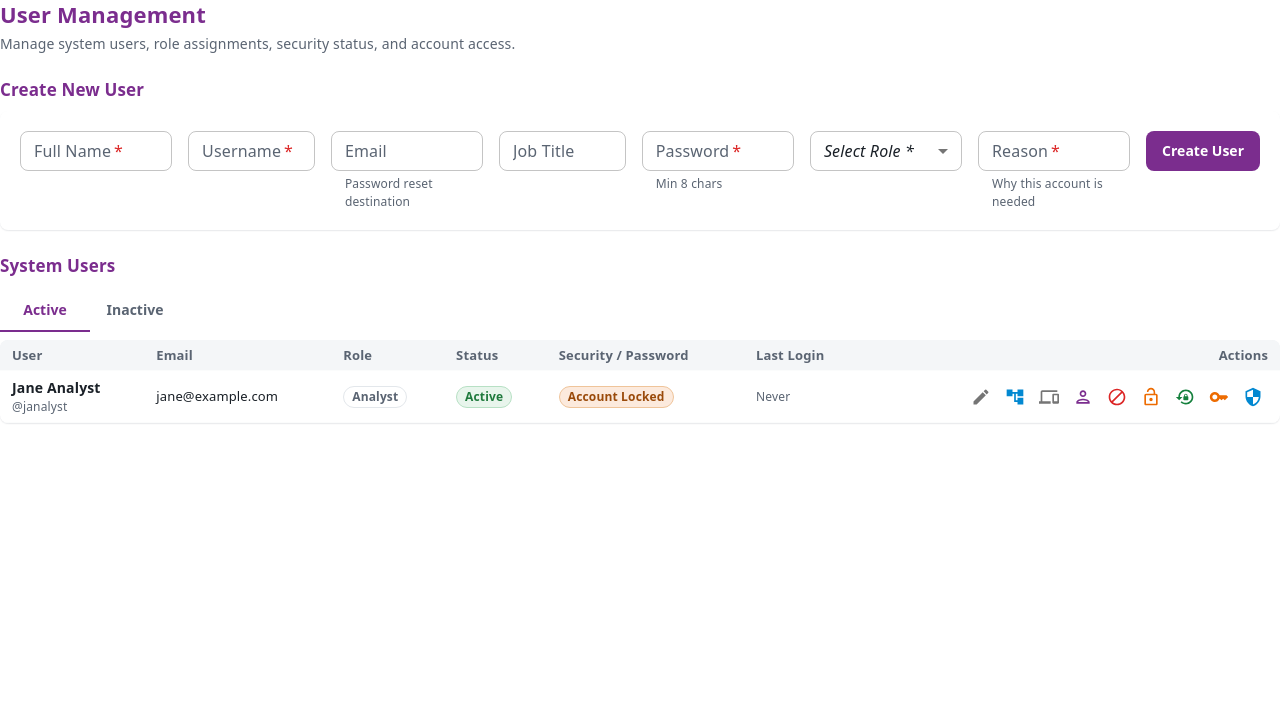
UsersPage reasons and signatures › keeps the signature dialog open with the server's message when the password is refused
Click the button named "Change Role".
click(1083, 397)  # box [1068,382,1098,412]
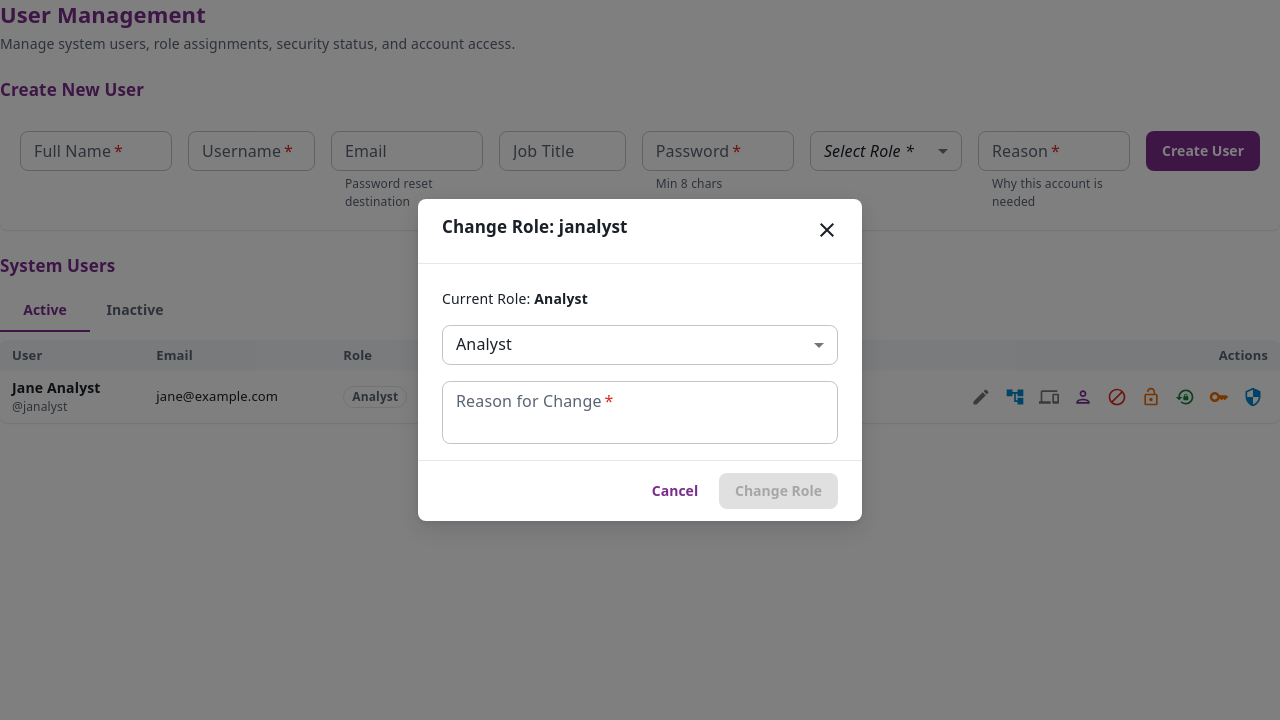
Type "Promotion" into the text box labelled "Reason for Change *".
click(640, 412); type("Promotion")  # box [456,389,824,435]
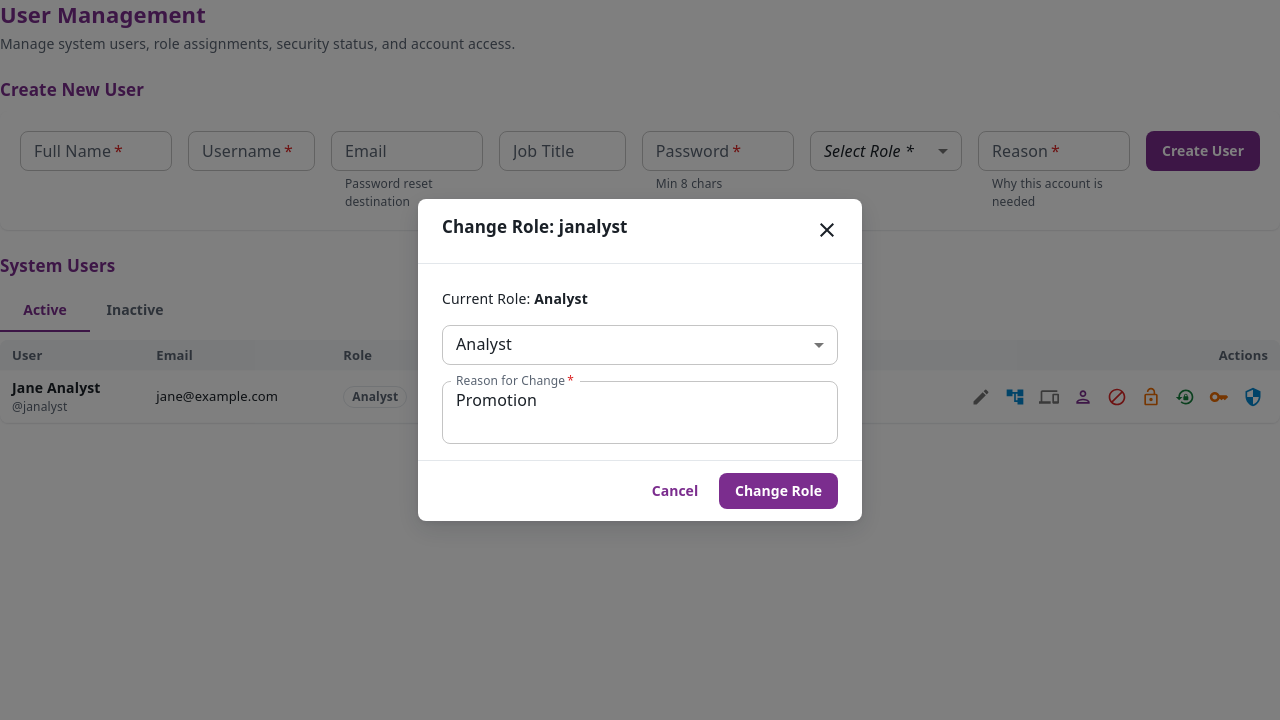
Click the button "Change Role".
click(778, 491)  # box [719,473,838,509]
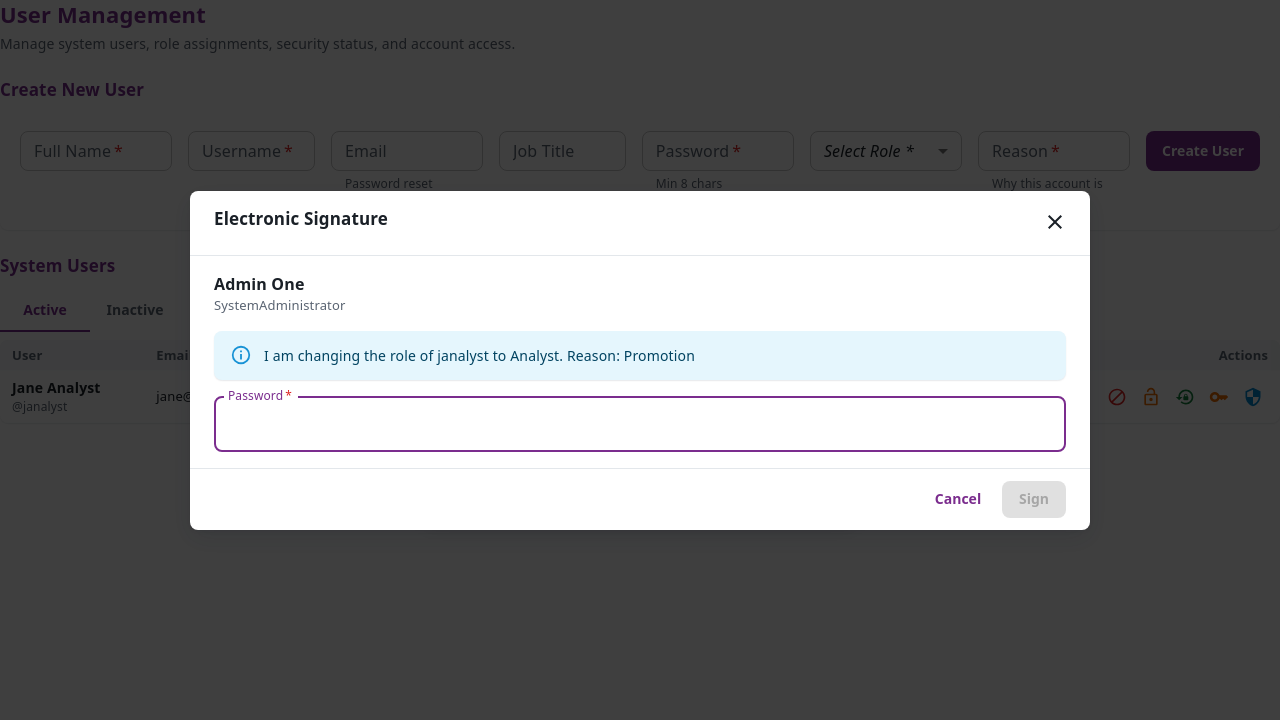
Now the heading "Electronic Signature" is shown, box [214,204,1072,238]
Type "wrong" into the password field labelled "Password *".
click(640, 424); type("wrong")  # box [214,396,1066,452]
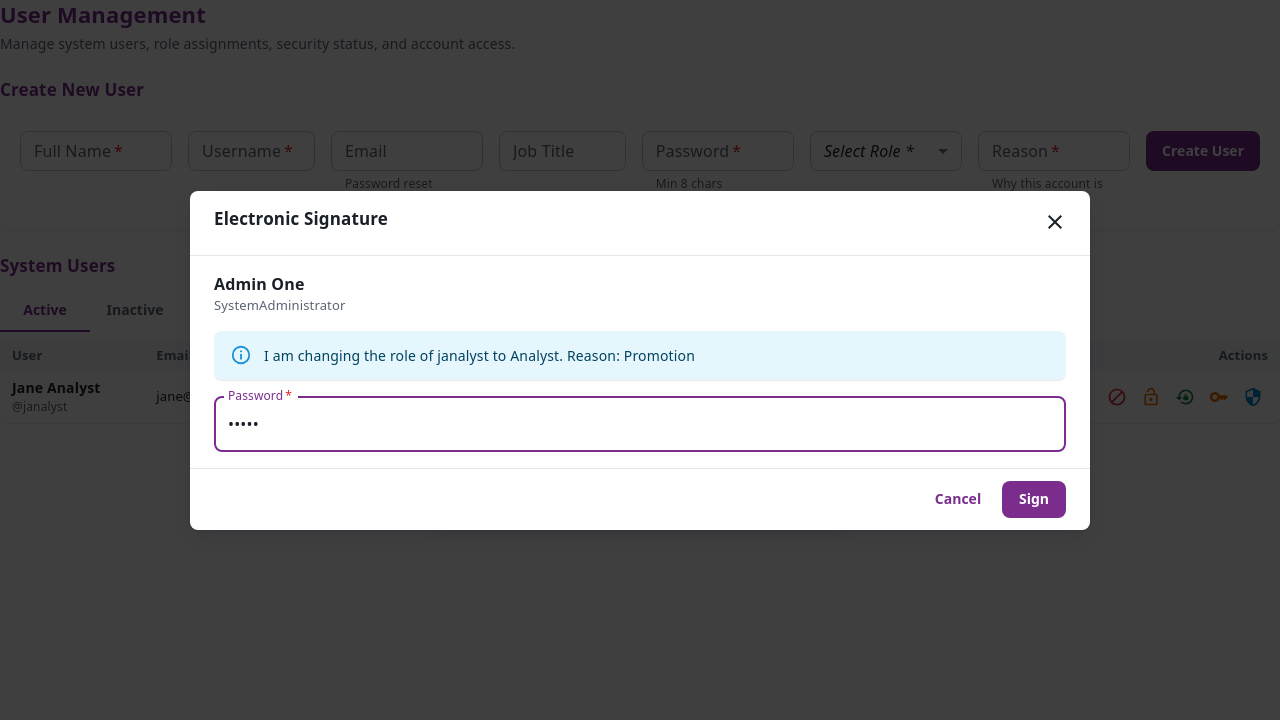
Click the button "Sign".
click(1034, 499)  # box [1002,481,1066,518]
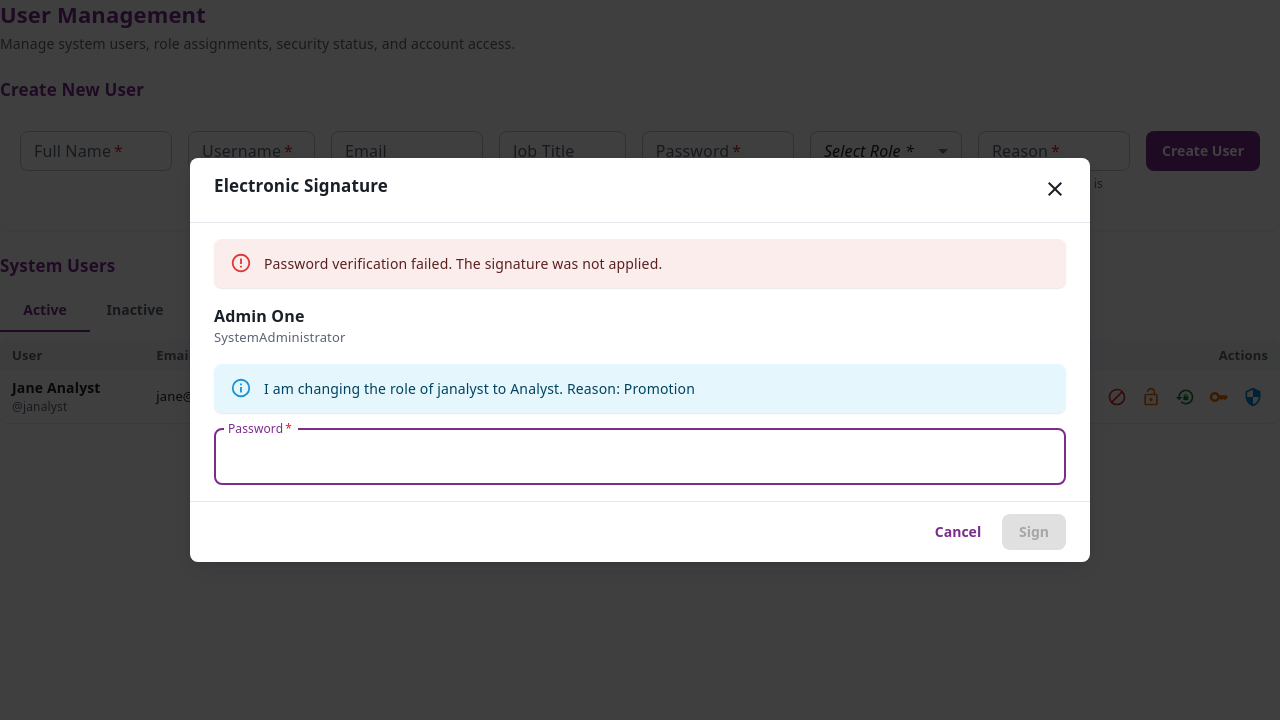
Now the heading "Electronic Signature" is shown, box [214,172,1072,206]
Now the text "Password verification failed. The signature was not applied." is shown, box [264,254,662,273]
